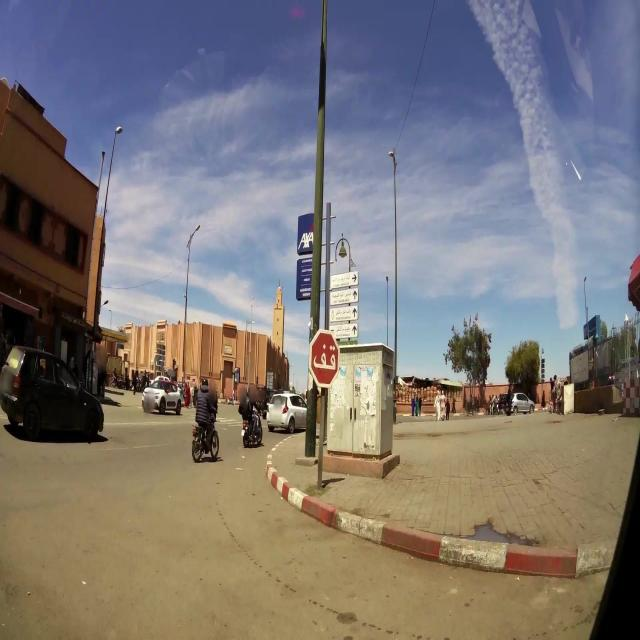bike: (191, 393, 220, 463), (241, 401, 263, 448)
car: (0, 345, 105, 441), (266, 390, 308, 434), (142, 376, 182, 416), (507, 392, 535, 415)
